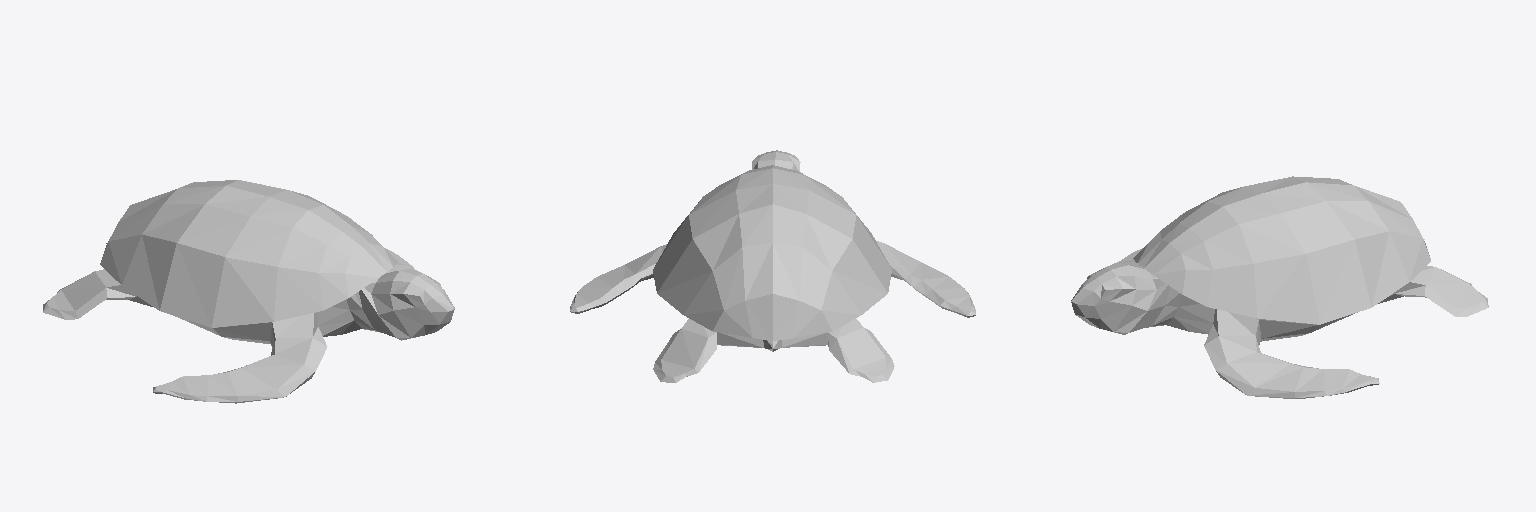
The model's file is Turtle.obj.
The picture shows the model from 3 angles: view 1: azimuth 30°, elevation 25°; view 2: azimuth 150°, elevation 25°; view 3: azimuth 270°, elevation 25°; orthographic projection.
Parts seen in each view (by area): view 1: Turtle_TurtleMesh.001; view 2: Turtle_TurtleMesh.001; view 3: Turtle_TurtleMesh.001.
Boxes of the visible parts, box(x1,y1,x2,y2) form: Turtle_TurtleMesh.001: box(43, 180, 454, 403); Turtle_TurtleMesh.001: box(570, 150, 975, 382); Turtle_TurtleMesh.001: box(1071, 176, 1488, 398).
Bounding box in the file's own units: 1.2 × 0.4509 × 1.31.